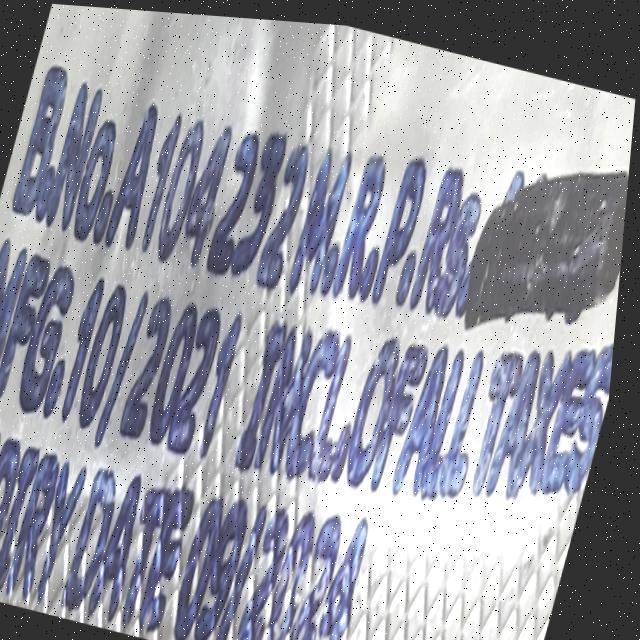sentence: (0, 236, 619, 540), (16, 65, 483, 312), (0, 428, 376, 640)
